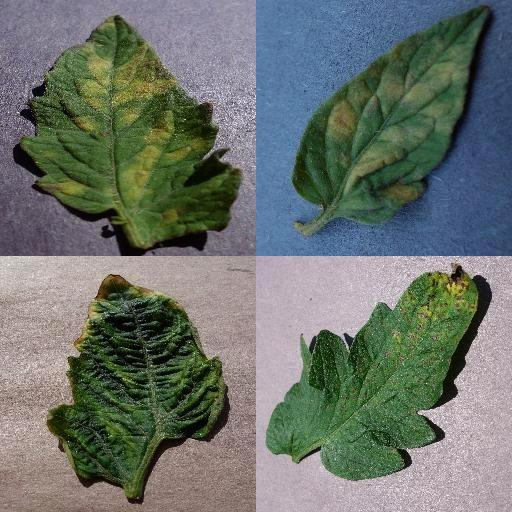Leaf Mold: (20, 15, 242, 249), (292, 5, 490, 229)
Septoria: (265, 263, 477, 483)
Yellow Leaf Curl Virus: (44, 271, 226, 485)
